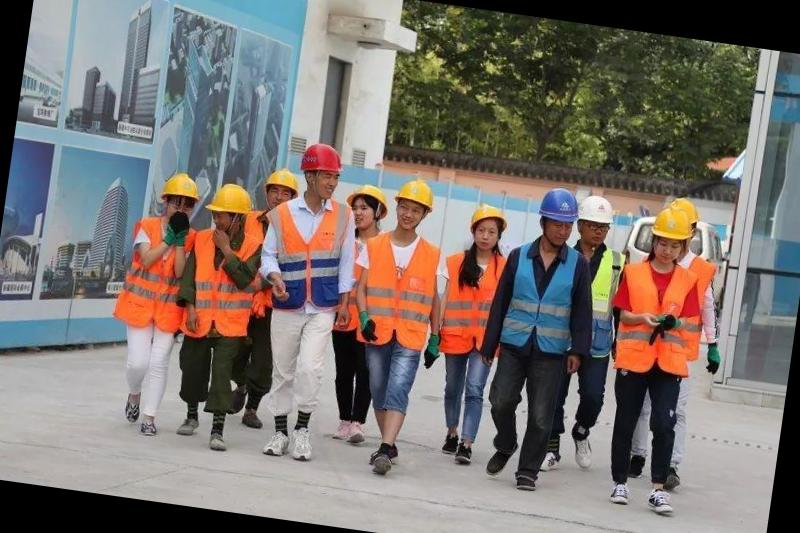Vest: (608, 258, 706, 376), (259, 202, 352, 310), (353, 232, 440, 346), (182, 222, 264, 336), (501, 244, 582, 352), (123, 214, 193, 327), (430, 248, 499, 357)
